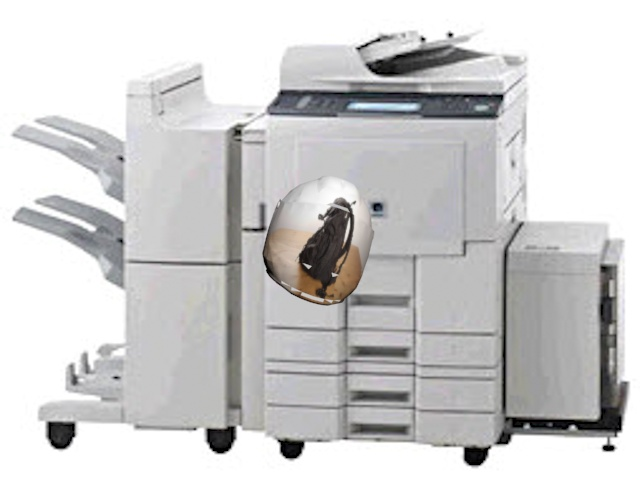bike_helmet: (257, 169, 384, 320)
